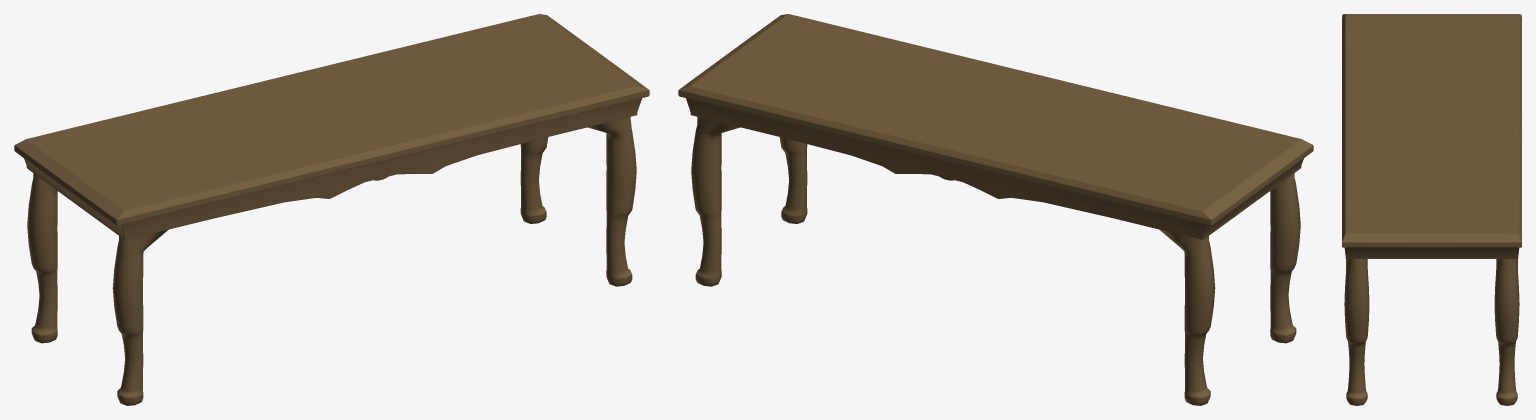
Rendered from Table.fbx.
The picture shows the model from 3 angles, left to right: view 1: azimuth 30°, elevation 25°; view 2: azimuth 150°, elevation 25°; view 3: azimuth 270°, elevation 25°; orthographic projection. The views are drawn at different scales.
Parts seen in each view (by area): view 1: table1; view 2: table1; view 3: table1.
Boxes of the visible parts, x1,y1,x2,y2 form: table1: (14, 14, 649, 405); table1: (678, 14, 1313, 405); table1: (1342, 14, 1521, 405).
Bounding box in the file's own units: 3120 × 1113 × 1040.
